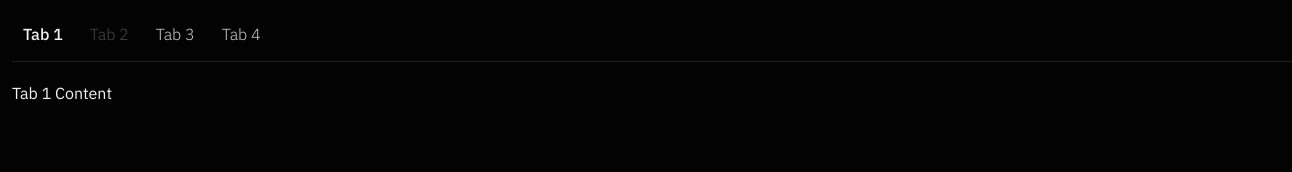
Test: Tabs › with navigation=select › should switch tabs on Click and display the respective content
The width and height of the screenshot is (1292, 172).
What coordinates should you click on to do the following:
click the button "Tab 3"
I would click on:
 (175, 34)
Its box is [145,12,206,56].
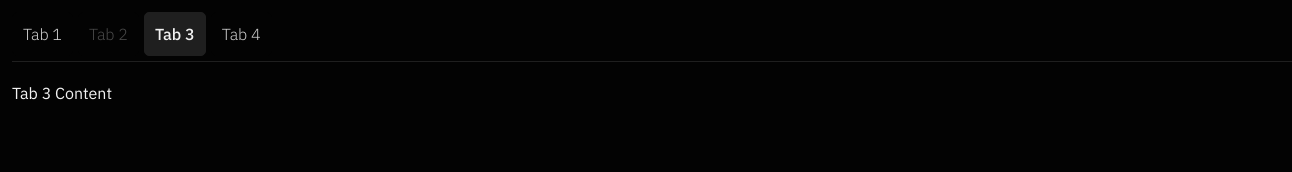
Check: the text "Tab 3 Content" is shown, box [12,83,112,103]
